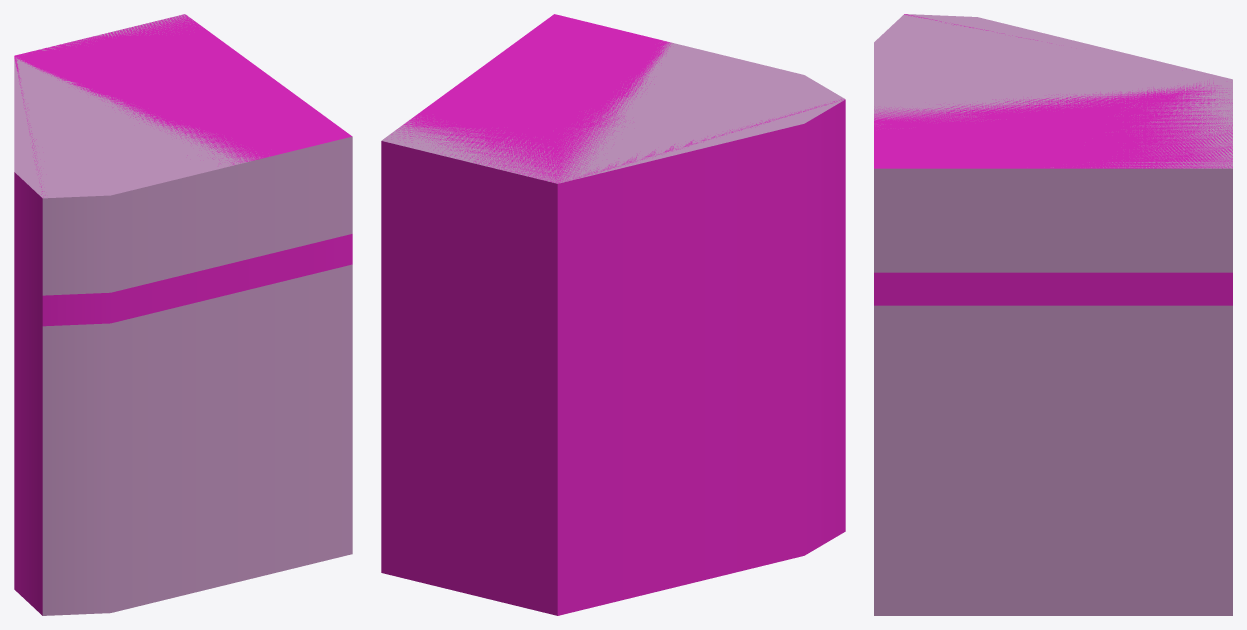
File: building11.fbx
The picture shows the model from 3 angles, left to right: view 1: azimuth 30°, elevation 25°; view 2: azimuth 150°, elevation 25°; view 3: azimuth 270°, elevation 25°; orthographic projection. The views are drawn at different scales.
Visible parts, largest first — view 1: building11_MESH, building11_COL; view 2: building11_COL, building11_MESH; view 3: building11_MESH, building11_COL.
Boxes of the visible parts, x1,y1,x2,y2 form: building11_MESH: (14, 14, 352, 615); building11_COL: (14, 14, 352, 615); building11_COL: (381, 14, 845, 615); building11_MESH: (381, 41, 845, 183); building11_MESH: (874, 14, 1232, 615); building11_COL: (874, 14, 1232, 305).
Bounding box in the file's own units: 624 × 612 × 842.
